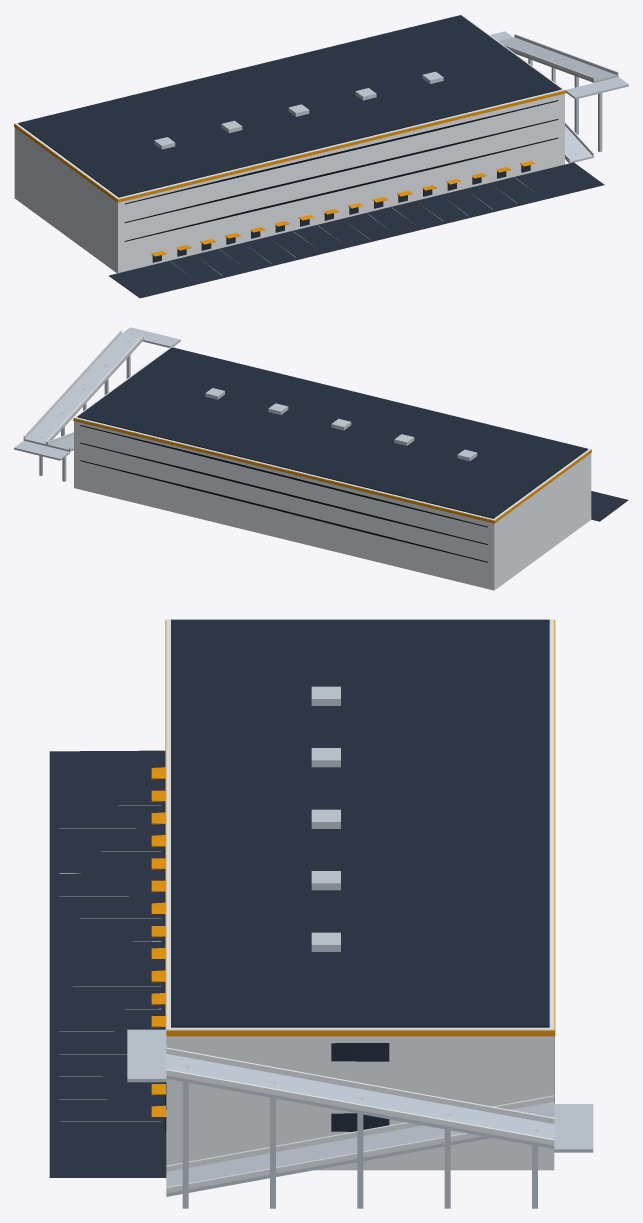
Rendered from warehouse.glb.
3 views of the same model, one above another, from view 1: azimuth 30°, elevation 25°; view 2: azimuth 150°, elevation 25°; view 3: azimuth 270°, elevation 25° (orthographic). The views are drawn at different scales.
Parts seen in each view (by area): view 1: warehouse; view 2: warehouse; view 3: warehouse.
Boxes of the visible parts, box(x1,y1,x2,y2) form: warehouse: box(14, 14, 628, 298); warehouse: box(14, 327, 628, 590); warehouse: box(49, 619, 593, 1208).
Size of the model in its own units: 228 by 34 by 112.
Materials: 1 (1 with a texture image).
